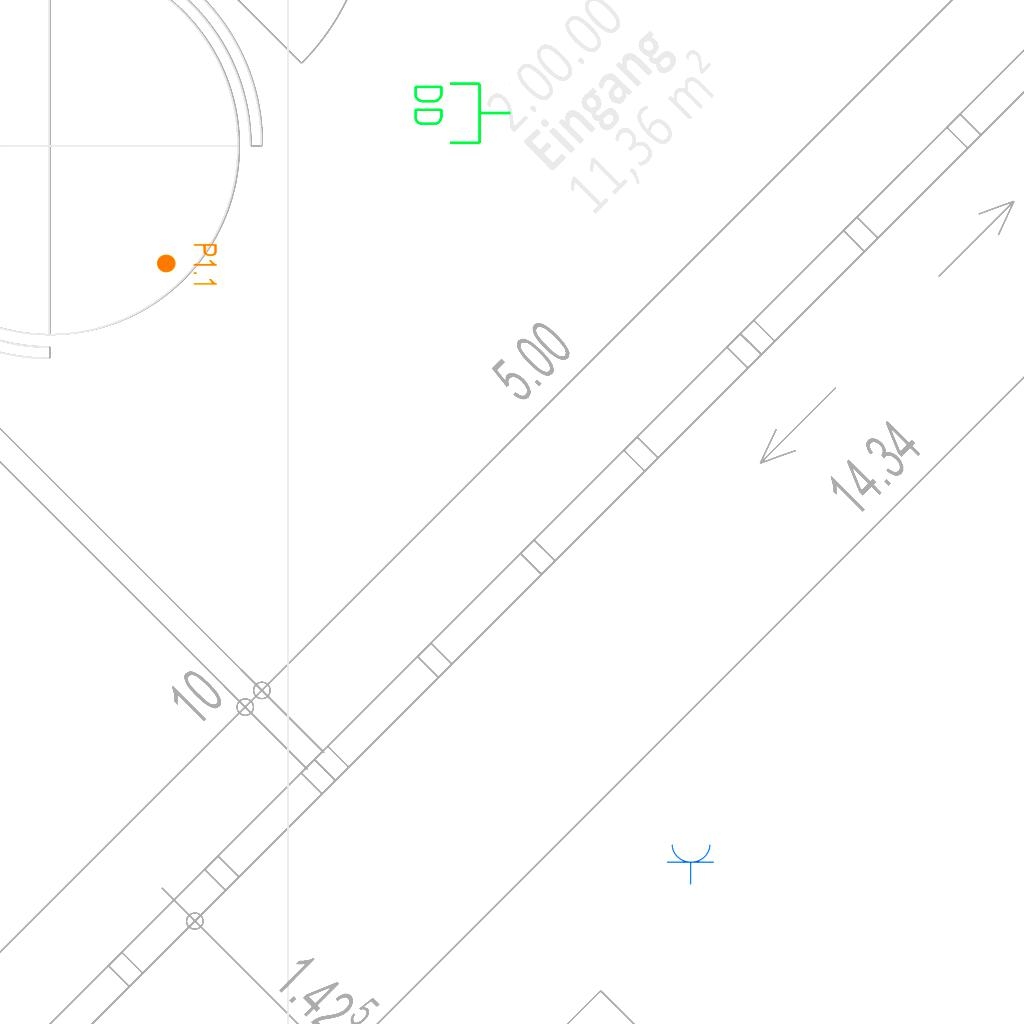Datenanschluss_zweifach: (410, 78, 513, 147)
Downlight_LED_Einbauleuchten_Flur: (155, 242, 219, 288)
Schukosteckdose_einfach: (666, 842, 716, 885)
